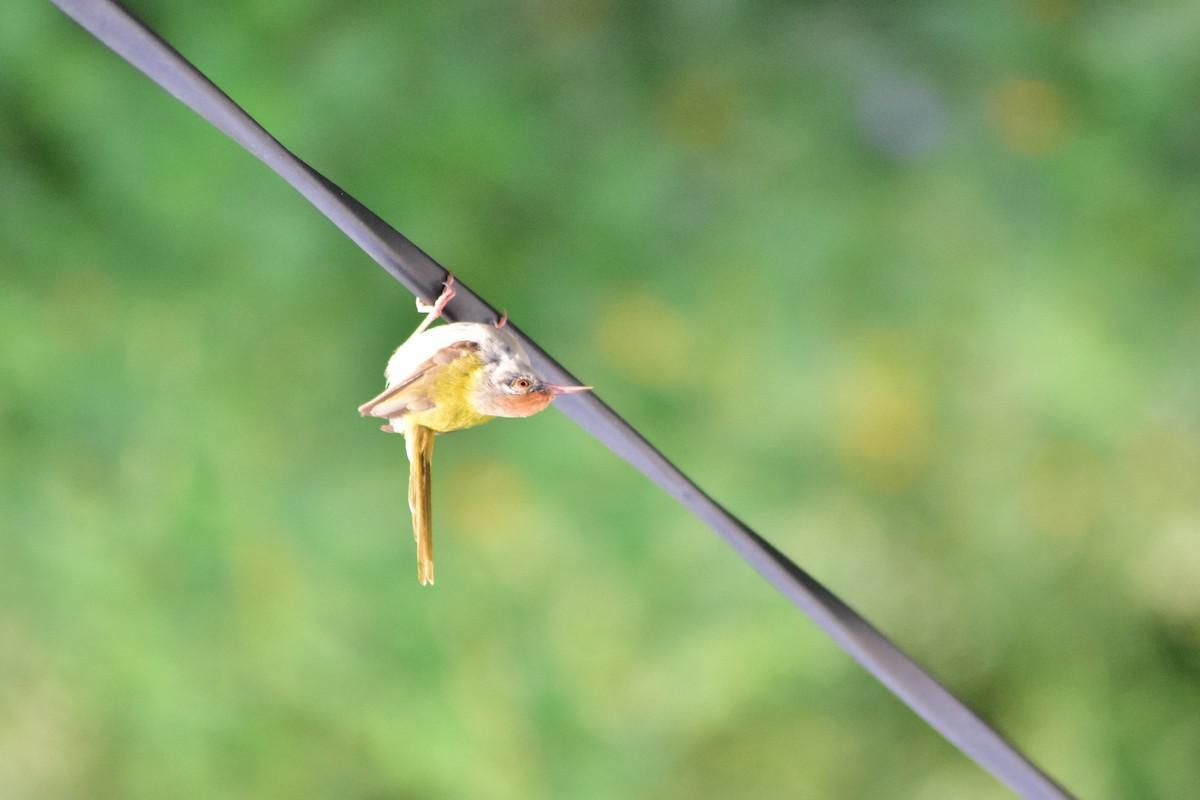tailorbird: (343, 238, 597, 553)
